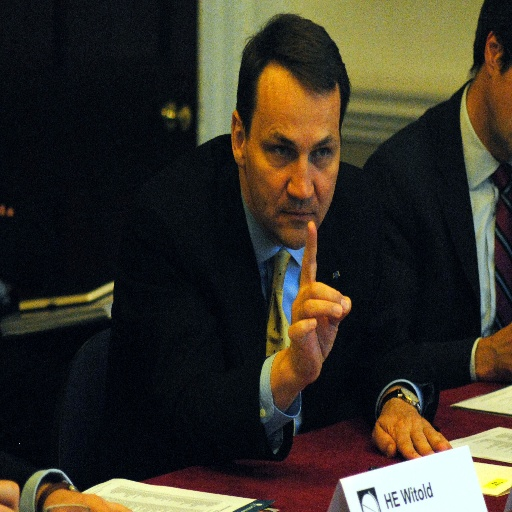hand: (281, 255, 354, 400), (370, 398, 454, 462), (478, 322, 511, 382), (42, 490, 133, 511), (0, 478, 20, 511)
